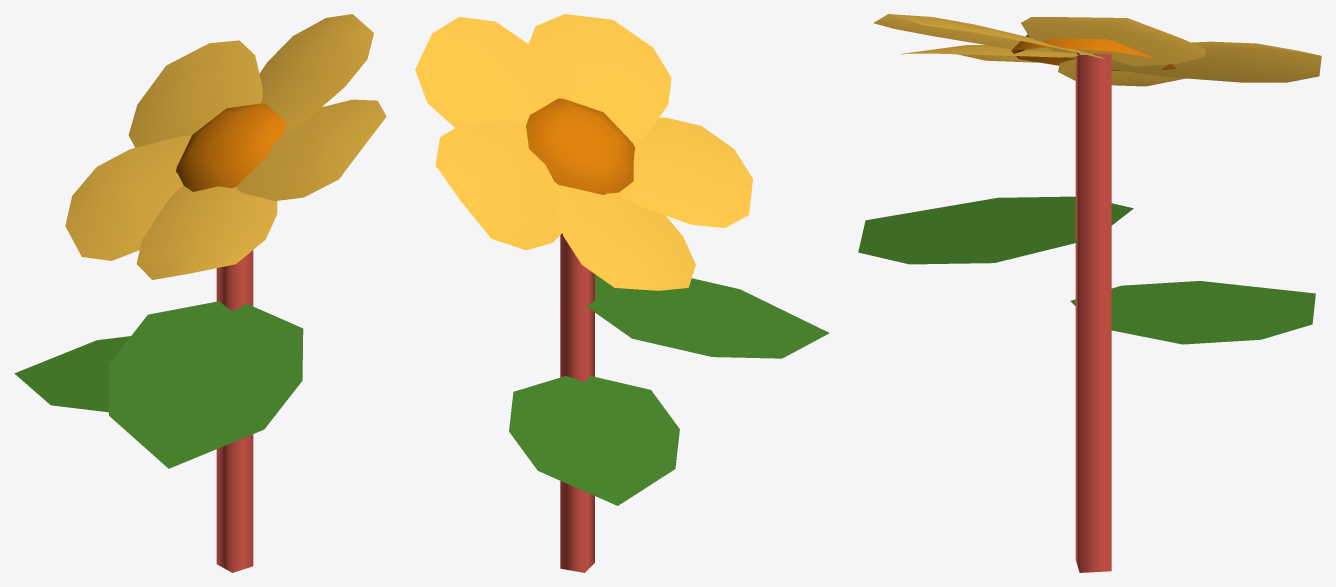
The model's file is flor.fbx.
3 views of the same model, side by side, from view 1: azimuth 30°, elevation 25°; view 2: azimuth 150°, elevation 25°; view 3: azimuth 270°, elevation 25° (orthographic). The views are drawn at different scales.
Visible parts, largest first — view 1: flor; view 2: flor; view 3: flor.
Boxes of the visible parts, x1,y1,x2,y2 form: flor: [14, 14, 386, 572]; flor: [415, 14, 829, 572]; flor: [858, 14, 1321, 572].
Size of the model in its own units: 10.7 by 17.57 by 11.79.
